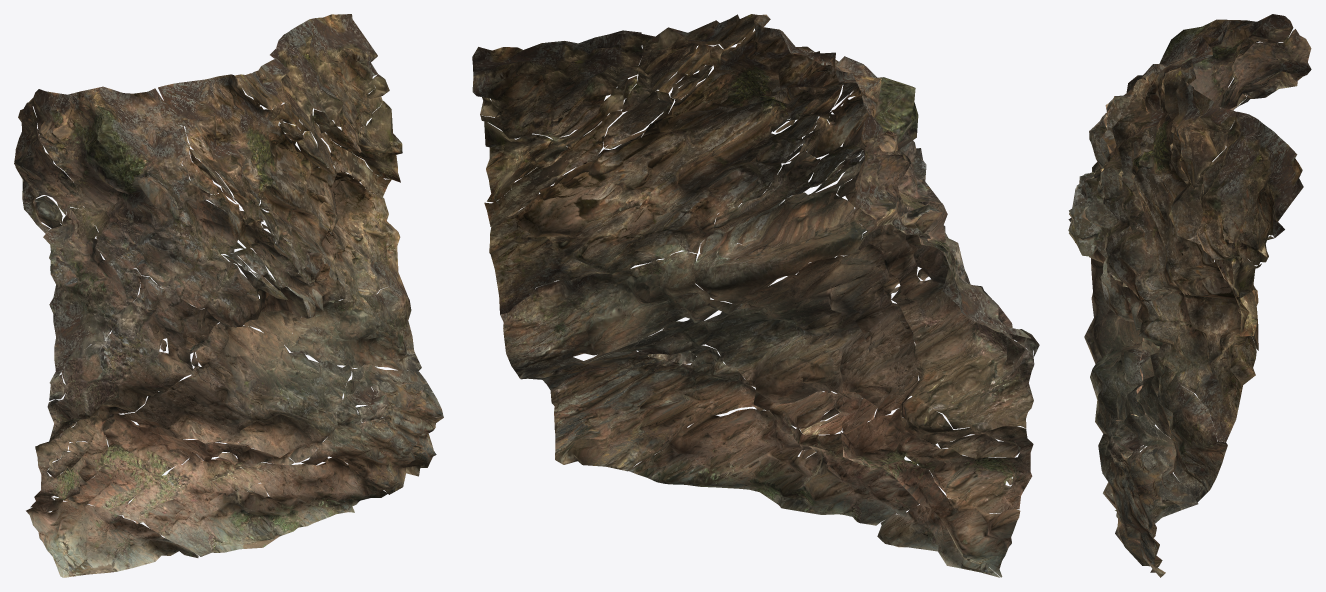
Rendered from mountainside_LOD2.fbx.
The picture shows the model from 3 angles, left to right: view 1: azimuth 30°, elevation 25°; view 2: azimuth 150°, elevation 25°; view 3: azimuth 270°, elevation 25°; orthographic projection. The views are drawn at different scales.
Visible parts, largest first — view 1: mountainside.001; view 2: mountainside.001; view 3: mountainside.001.
Part boxes in pixels (x1,y1,x2,y2): mountainside.001: (14,14,443,577); mountainside.001: (472,14,1039,577); mountainside.001: (1068,14,1311,577).
Size of the model in its own units: 10.2 by 10.53 by 5.29.
1 material, 1 textured.
